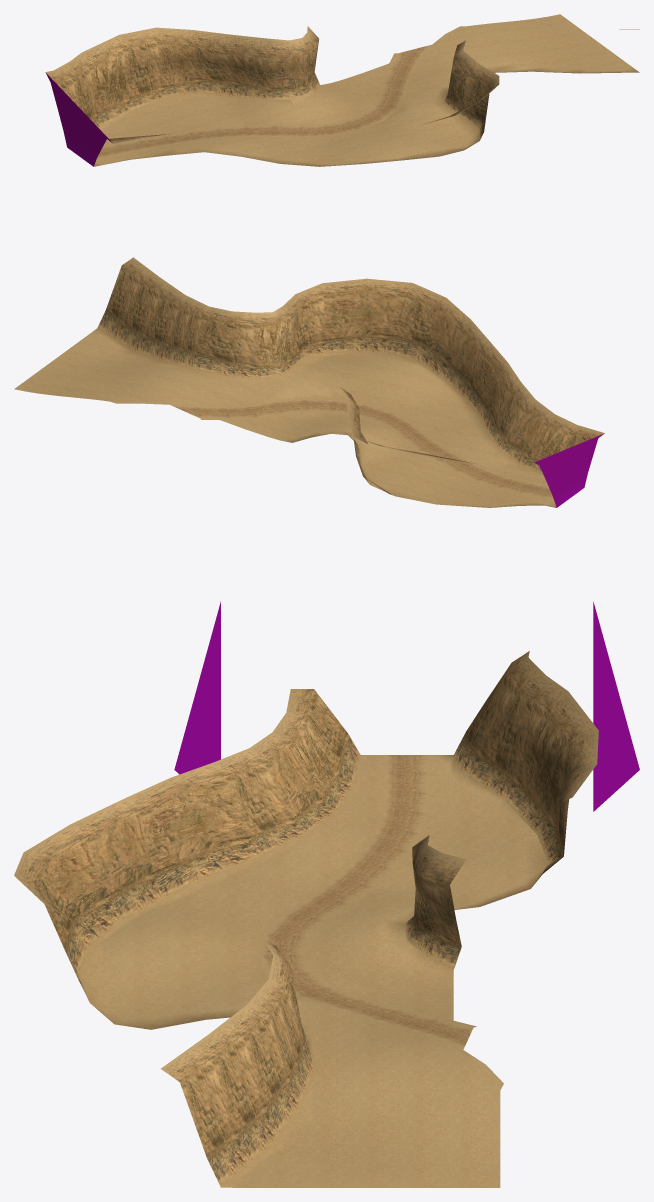
Rendered from Mission5B_End_Zone.glb.
3 renders of one model, top to bottom at view 1: azimuth 30°, elevation 25°; view 2: azimuth 150°, elevation 25°; view 3: azimuth 270°, elevation 25°, orthographic. The views are drawn at different scales.
Visible parts, largest first — view 1: MISSION5B_END_ZONE141, MISSION5B_END_ZONE161, MISSION5B_END_ZONE174, MISSION5B_END_ZONE172, MISSION5B_END_ZONE173, MISSION5B_END_ZONE170, MISSION5B_END_ZONE171, MISSION5B_END_ZONE120, MISSION5B_END_ZONE029, MISSION5B_END_ZONE133, MISSION5B_END_ZONE042, MISSION5B_END_ZONE119 (+56 smaller); view 2: MISSION5B_END_ZONE010, MISSION5B_END_ZONE059, MISSION5B_END_ZONE006, MISSION5B_END_ZONE083, MISSION5B_END_ZONE062, MISSION5B_END_ZONE019, MISSION5B_END_ZONE133, MISSION5B_END_ZONE021, MISSION5B_END_ZONE045, MISSION5B_END_ZONE003, MISSION5B_END_ZONE063, MISSION5B_END_ZONE064 (+31 smaller); view 3: MISSION5B_END_ZONE021, MISSION5B_END_ZONE033, MISSION5B_END_ZONE176, MISSION5B_END_ZONE006, MISSION5B_END_ZONE049, MISSION5B_END_ZONE031, MISSION5B_END_ZONE045, MISSION5B_END_ZONE142, MISSION5B_END_ZONE064, MISSION5B_END_ZONE044, MISSION5B_END_ZONE013, MISSION5B_END_ZONE171 (+90 smaller).
Boxes of the visible parts, <box> form: MISSION5B_END_ZONE141: <box>226,38,289,104</box>; MISSION5B_END_ZONE161: <box>189,35,258,103</box>; MISSION5B_END_ZONE174: <box>158,30,224,99</box>; MISSION5B_END_ZONE172: <box>123,40,166,111</box>; MISSION5B_END_ZONE173: <box>131,40,195,108</box>; MISSION5B_END_ZONE170: <box>82,35,129,125</box>; MISSION5B_END_ZONE171: <box>90,35,138,125</box>; MISSION5B_END_ZONE120: <box>271,33,316,104</box>; MISSION5B_END_ZONE029: <box>459,64,498,128</box>; MISSION5B_END_ZONE133: <box>46,73,110,156</box>; MISSION5B_END_ZONE042: <box>443,51,479,109</box>; MISSION5B_END_ZONE119: <box>258,40,293,113</box>; MISSION5B_END_ZONE010: <box>322,278,366,354</box>; MISSION5B_END_ZONE059: <box>228,312,281,382</box>; MISSION5B_END_ZONE006: <box>419,308,460,379</box>; MISSION5B_END_ZONE083: <box>183,315,228,378</box>; MISSION5B_END_ZONE062: <box>168,295,208,352</box>; MISSION5B_END_ZONE019: <box>295,283,326,356</box>; MISSION5B_END_ZONE133: <box>533,434,601,507</box>; MISSION5B_END_ZONE021: <box>465,350,507,417</box>; MISSION5B_END_ZONE045: <box>90,265,149,346</box>; MISSION5B_END_ZONE003: <box>360,278,411,335</box>; MISSION5B_END_ZONE063: <box>131,287,185,361</box>; MISSION5B_END_ZONE064: <box>125,287,175,361</box>; MISSION5B_END_ZONE021: <box>140,778,207,899</box>; MISSION5B_END_ZONE033: <box>184,775,262,876</box>; MISSION5B_END_ZONE176: <box>593,601,639,811</box>; MISSION5B_END_ZONE006: <box>44,837,121,945</box>; MISSION5B_END_ZONE049: <box>228,763,308,855</box>; MISSION5B_END_ZONE031: <box>174,601,220,774</box>; MISSION5B_END_ZONE045: <box>180,1048,266,1187</box>; MISSION5B_END_ZONE142: <box>423,853,465,970</box>; MISSION5B_END_ZONE064: <box>228,1017,300,1148</box>; MISSION5B_END_ZONE044: <box>180,1034,255,1157</box>; MISSION5B_END_ZONE013: <box>87,811,161,924</box>; MISSION5B_END_ZONE171: <box>505,710,598,836</box>.
Size of the model in its own units: 176 by 40 by 108.
Materials: 9 (8 with a texture image).
